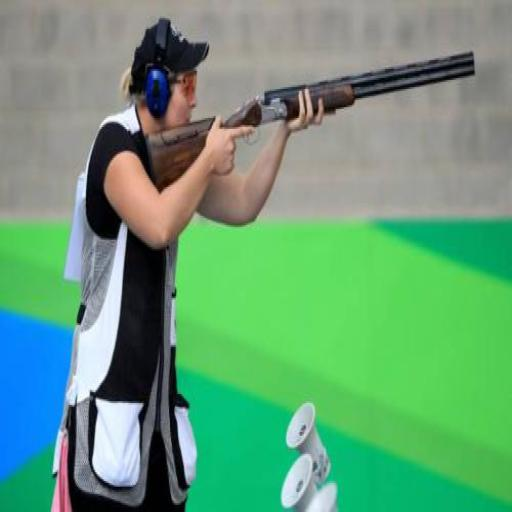shooting: (49, 16, 328, 510)
